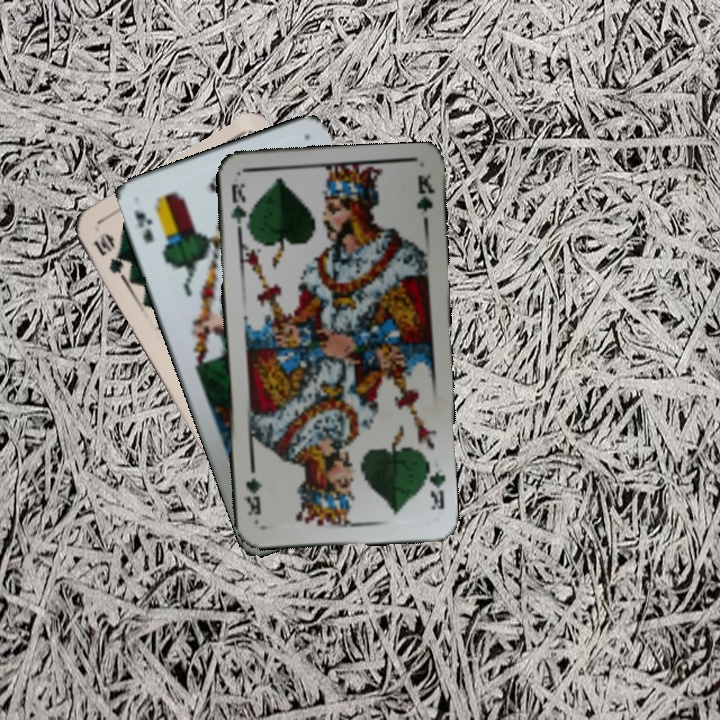EK: (130, 205, 156, 246)
G10: (89, 228, 128, 282)
GK: (421, 457, 448, 512), (227, 179, 253, 233)
